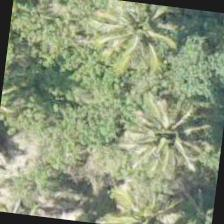Kelapa_Sawit: (117, 82, 217, 182), (90, 0, 189, 80), (96, 171, 194, 223)
